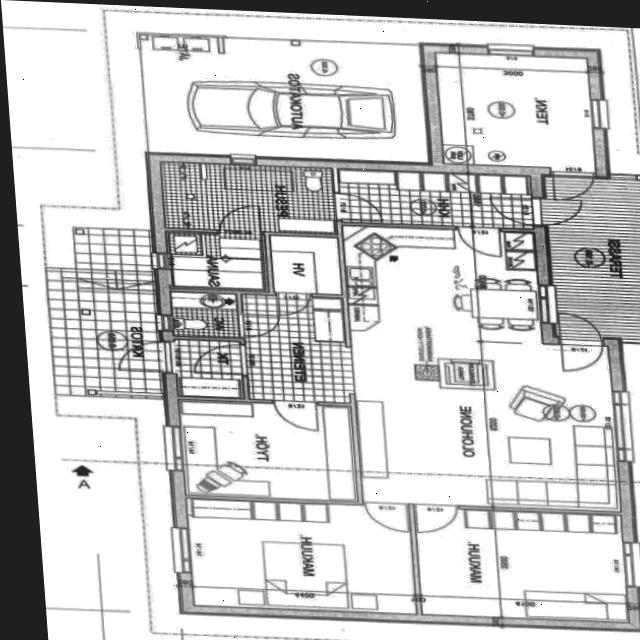room: (181, 498, 421, 615), (411, 507, 632, 623), (430, 52, 599, 171), (175, 400, 361, 502), (157, 162, 339, 235), (335, 169, 534, 229), (162, 231, 268, 292), (265, 235, 344, 296), (170, 339, 246, 399), (168, 291, 240, 338)
